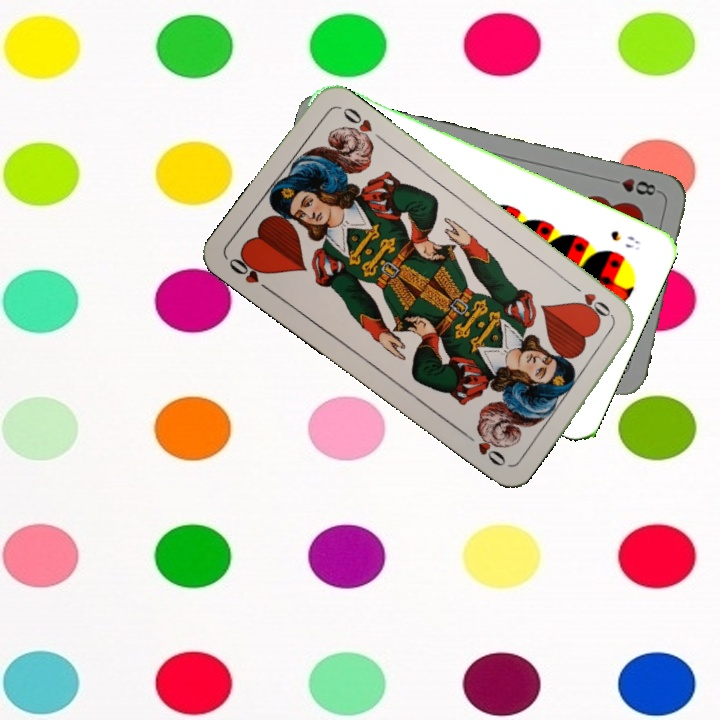H8: (604, 174, 663, 198)
HO: (224, 250, 275, 296), (567, 279, 617, 322)
S8: (606, 226, 642, 253)
